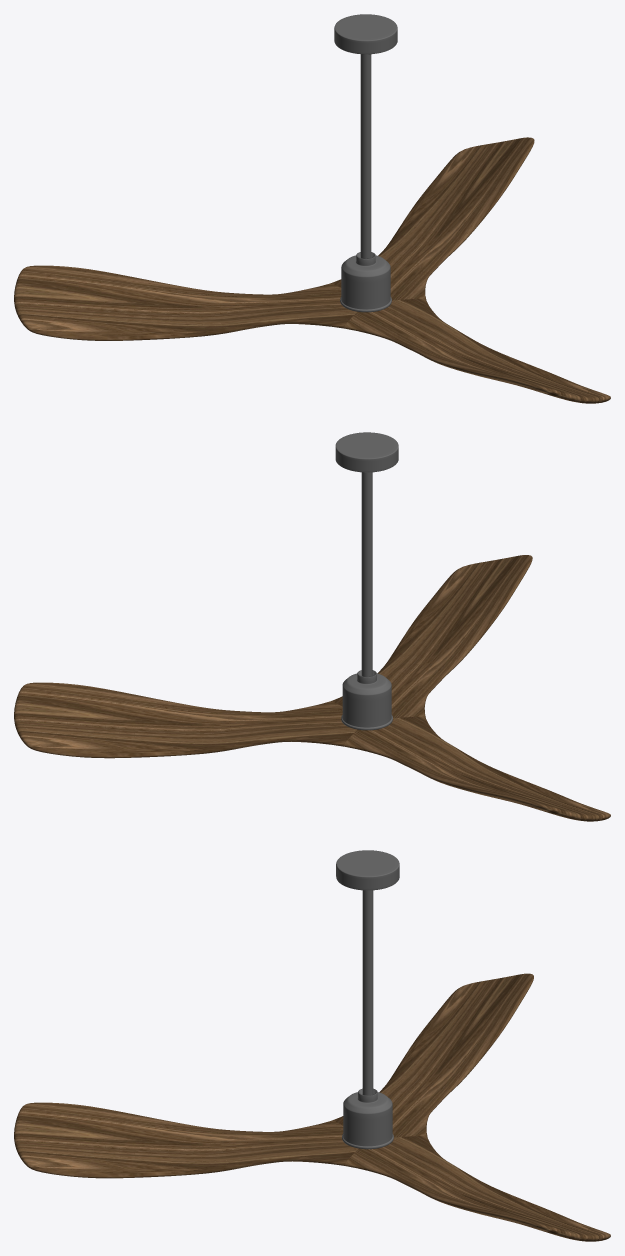
The model's file is fanstill.fbx.
3 views of the same model, one above another, from view 1: azimuth 30°, elevation 25°; view 2: azimuth 150°, elevation 25°; view 3: azimuth 270°, elevation 25° (orthographic).
Parts seen in each view (by area): view 1: pCylinder211; view 2: pCylinder211; view 3: pCylinder211.
Boxes of the visible parts, x1,y1,x2,y2 form: pCylinder211: (14, 14, 610, 403); pCylinder211: (14, 432, 610, 821); pCylinder211: (14, 850, 610, 1241).
Size of the model in its own units: 13.07 by 6.5 by 12.31.
Materials: 2 (1 with a texture image).
